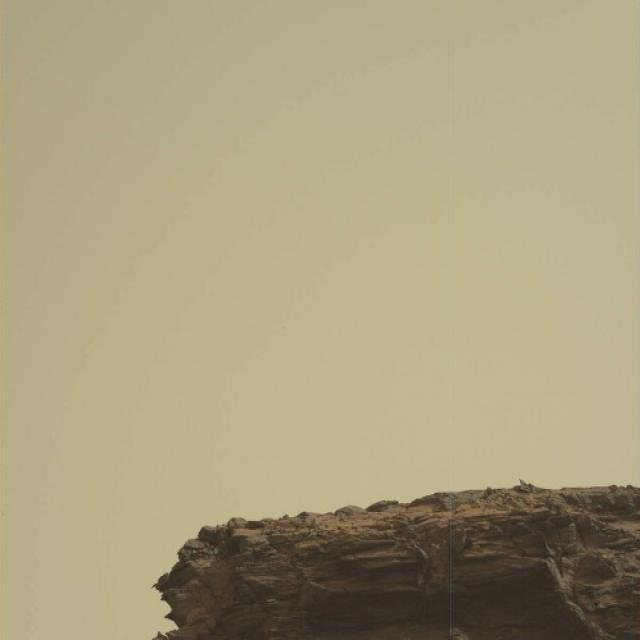rock: (149, 472, 640, 639)
